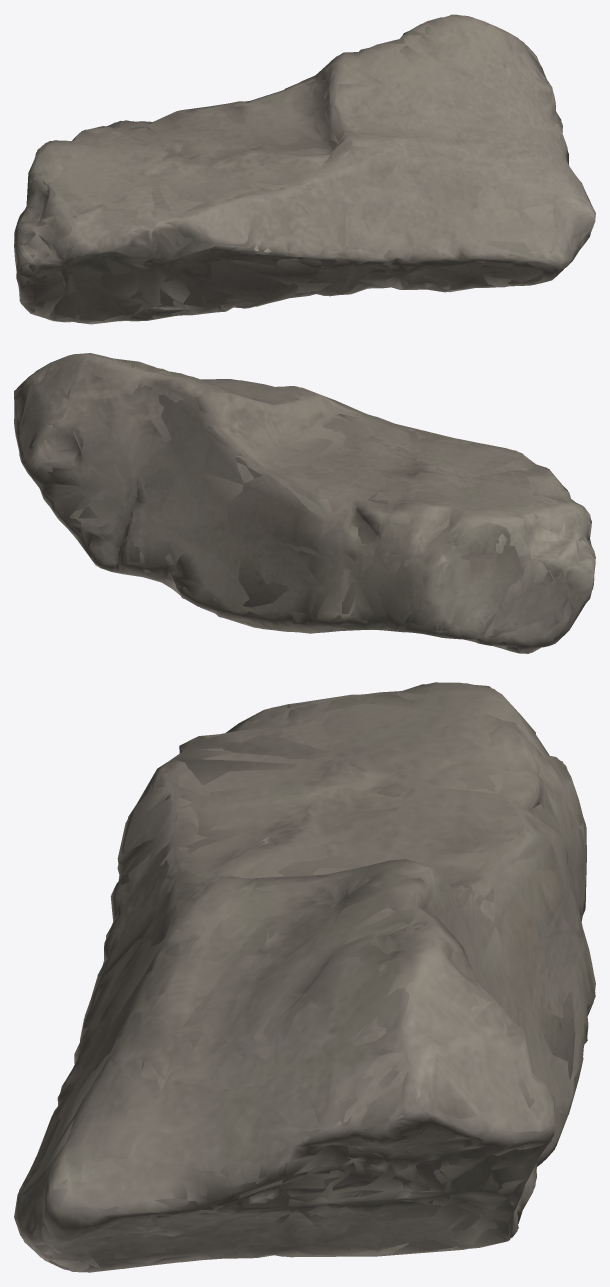
The model's file is moon-rock.glb.
3 renders of one model, top to bottom at view 1: azimuth 30°, elevation 25°; view 2: azimuth 150°, elevation 25°; view 3: azimuth 270°, elevation 25°, orthographic. The views are drawn at different scales.
Size of the model in its own units: 0.2123 by 0.0753 by 0.1117.
1 material, 1 textured.
